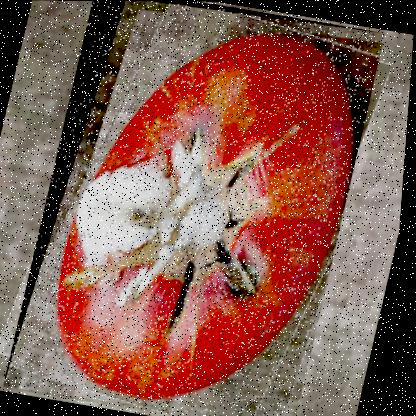tomato_rotten: (4, 0, 388, 415)
